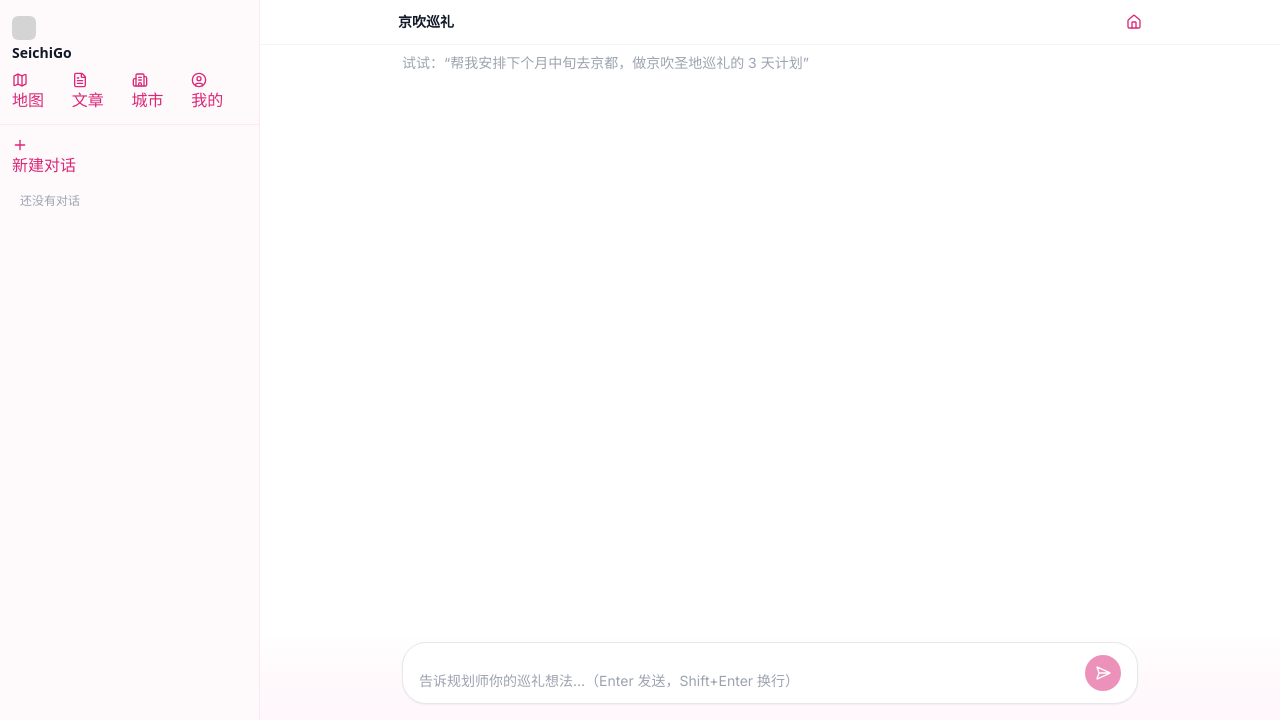
it: B1 停止本轮规划（§0 stop 契约） › busy 时发送按钮位置变成「停止」按钮
Type "帮我规划宇治 3 天" into the text box with placeholder "告诉规划师你的巡礼想法…（Enter 发送，Shift+Enter 换行）" at (748, 681), box [419, 671, 1077, 691]
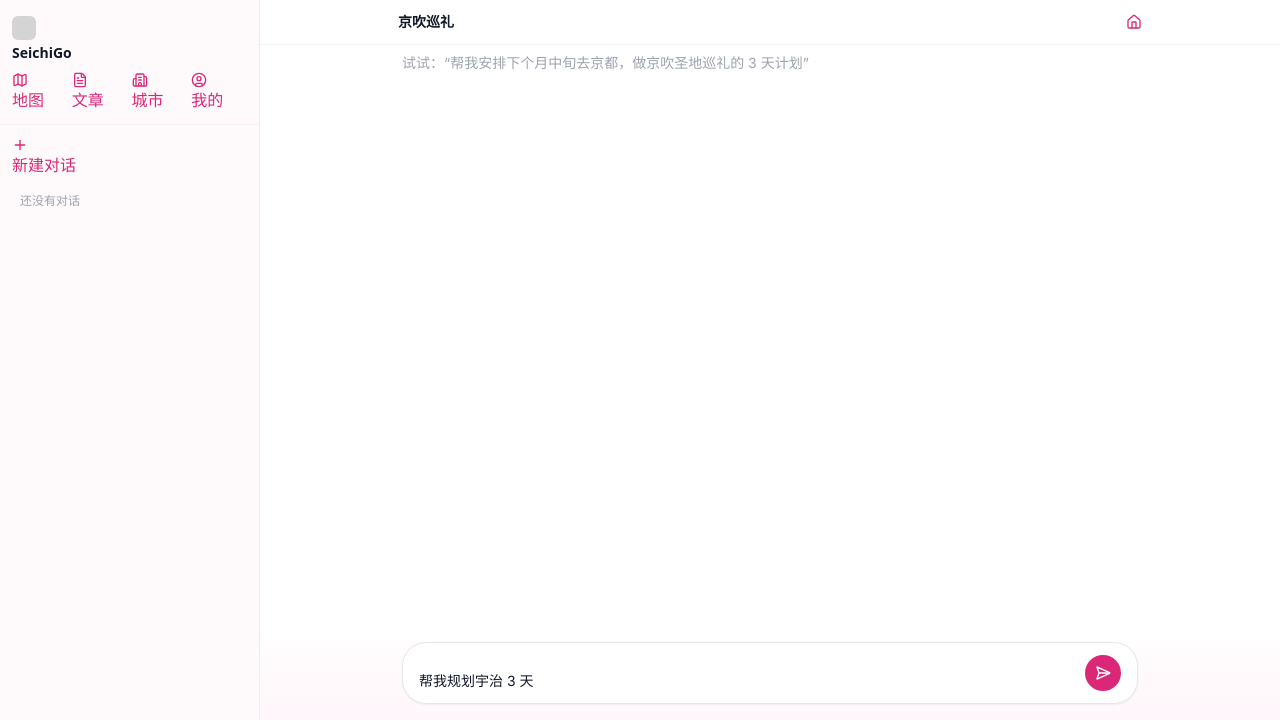
Click the button named "发送" at (1103, 673), box [1085, 655, 1121, 691]
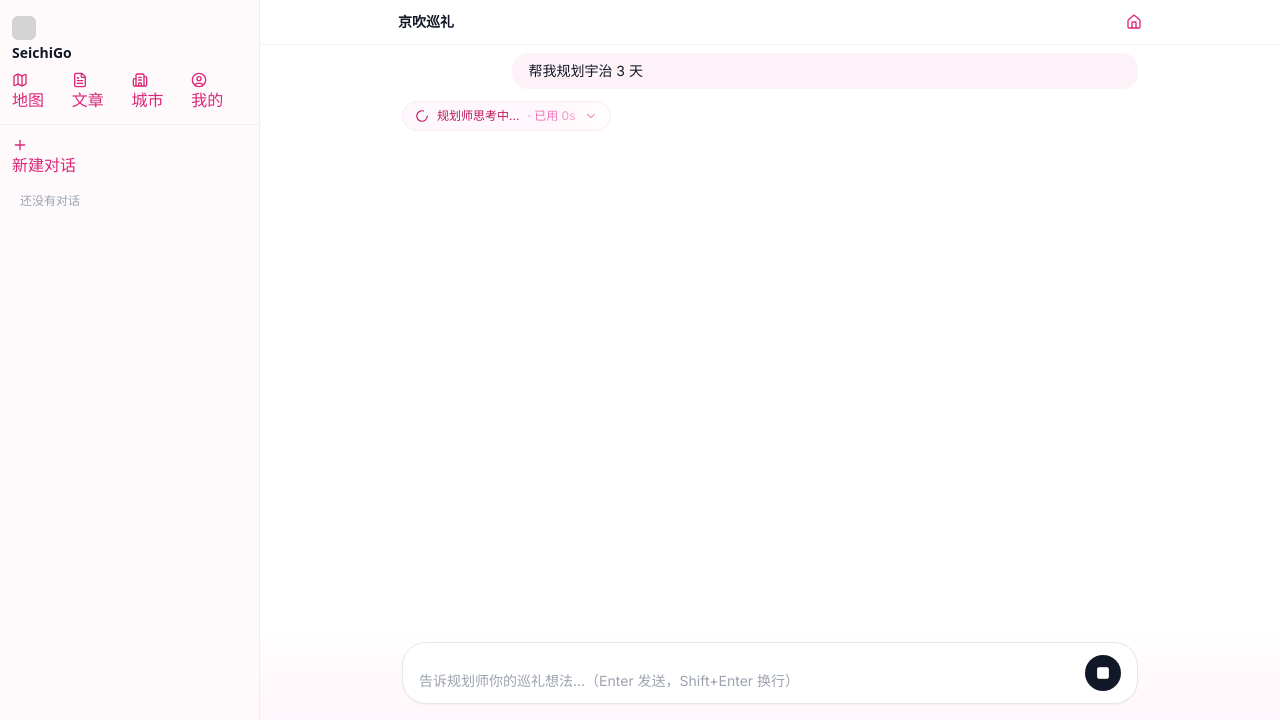
Expected: the button named "停止" is shown, [1085, 655, 1121, 691]
